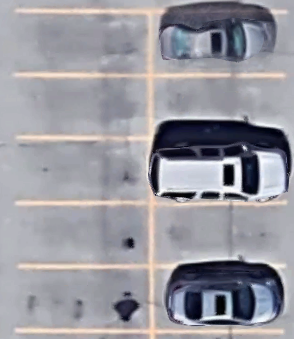Occupied: (150, 9, 286, 76), (151, 267, 284, 333), (150, 140, 286, 203)
Vacant: (13, 9, 151, 76), (14, 74, 151, 139), (16, 267, 152, 332), (149, 75, 284, 139), (16, 139, 150, 203), (16, 204, 151, 267), (150, 204, 285, 267)
